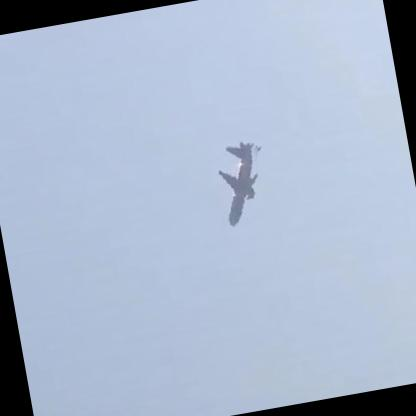plane: (194, 134, 279, 232)
